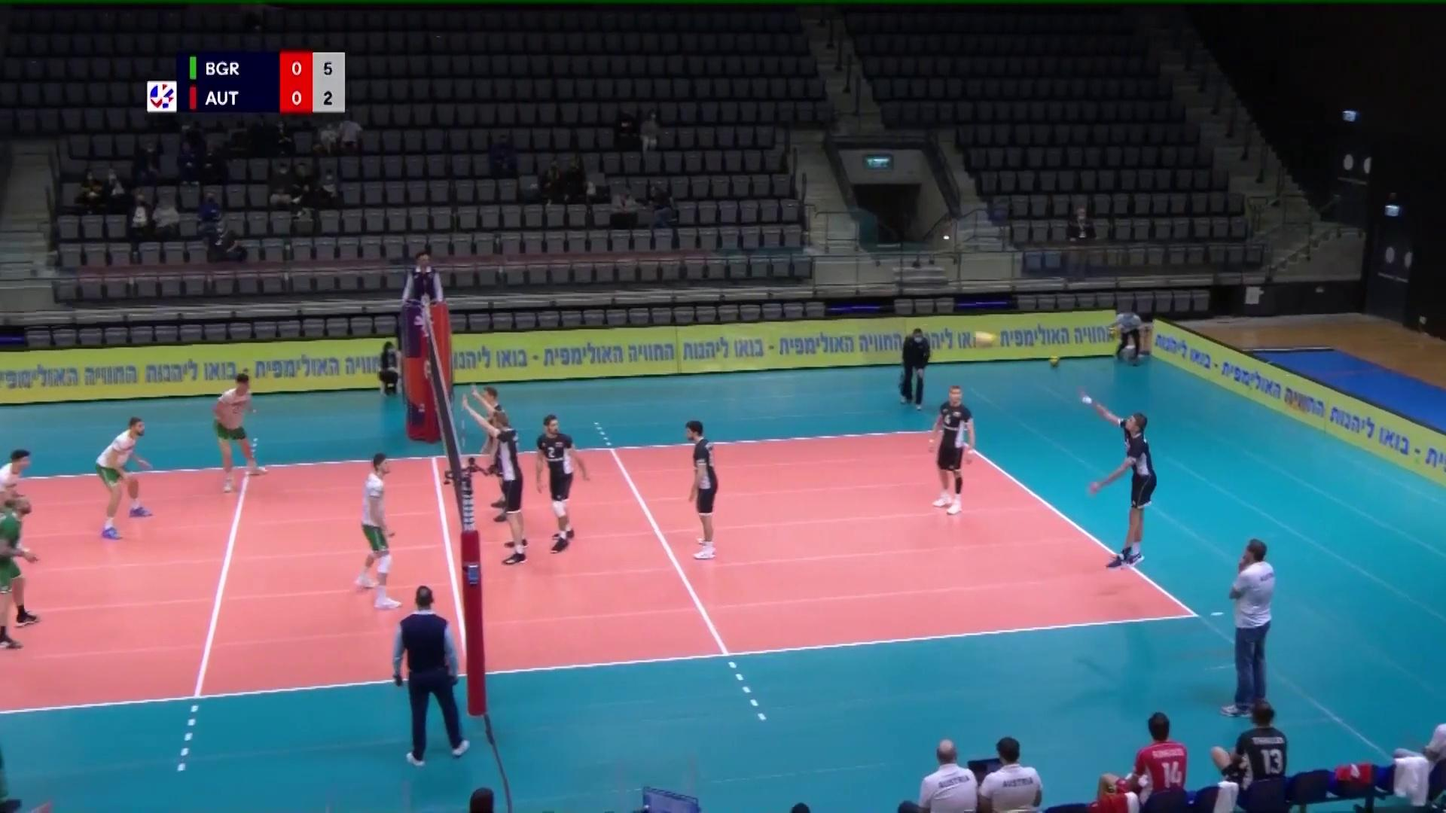ball: (975, 332, 997, 348)
